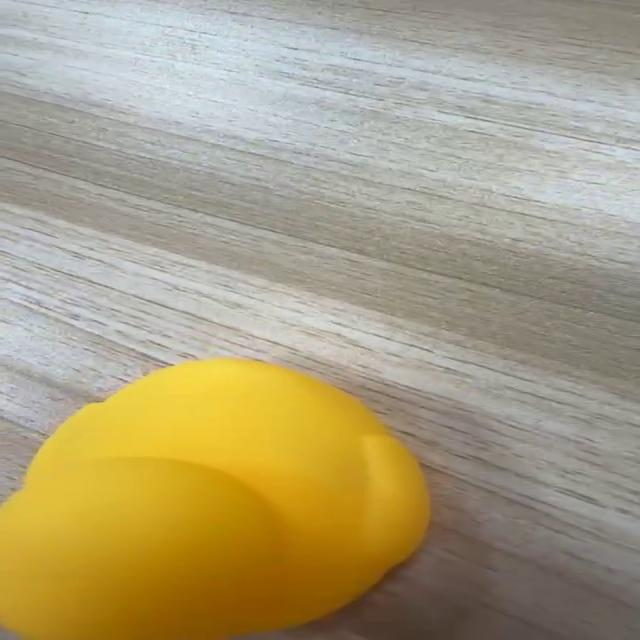yellow_duck: (1, 355, 433, 638)
